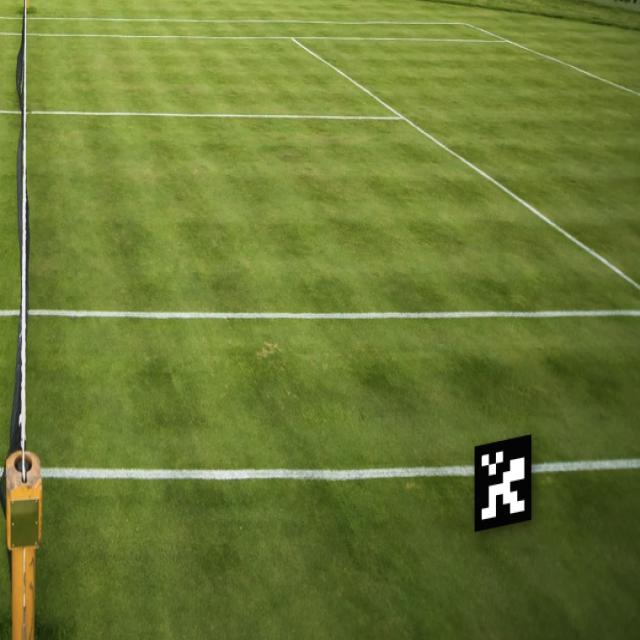marker: (469, 424, 541, 544)
